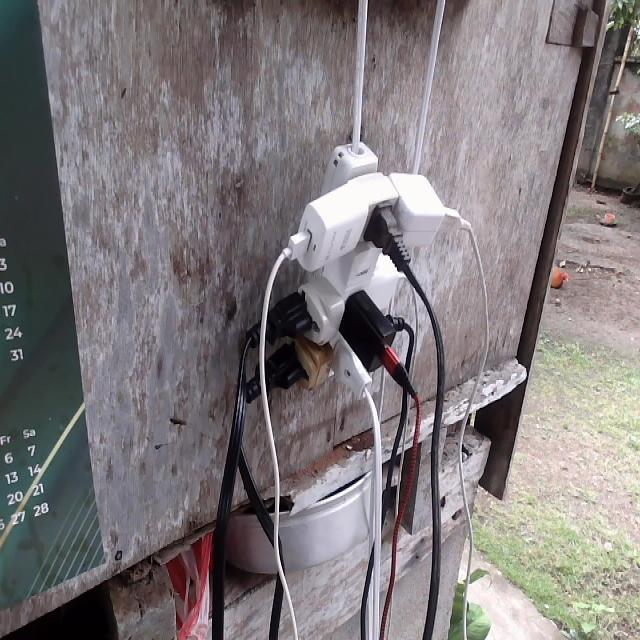-: (272, 135, 452, 397)
